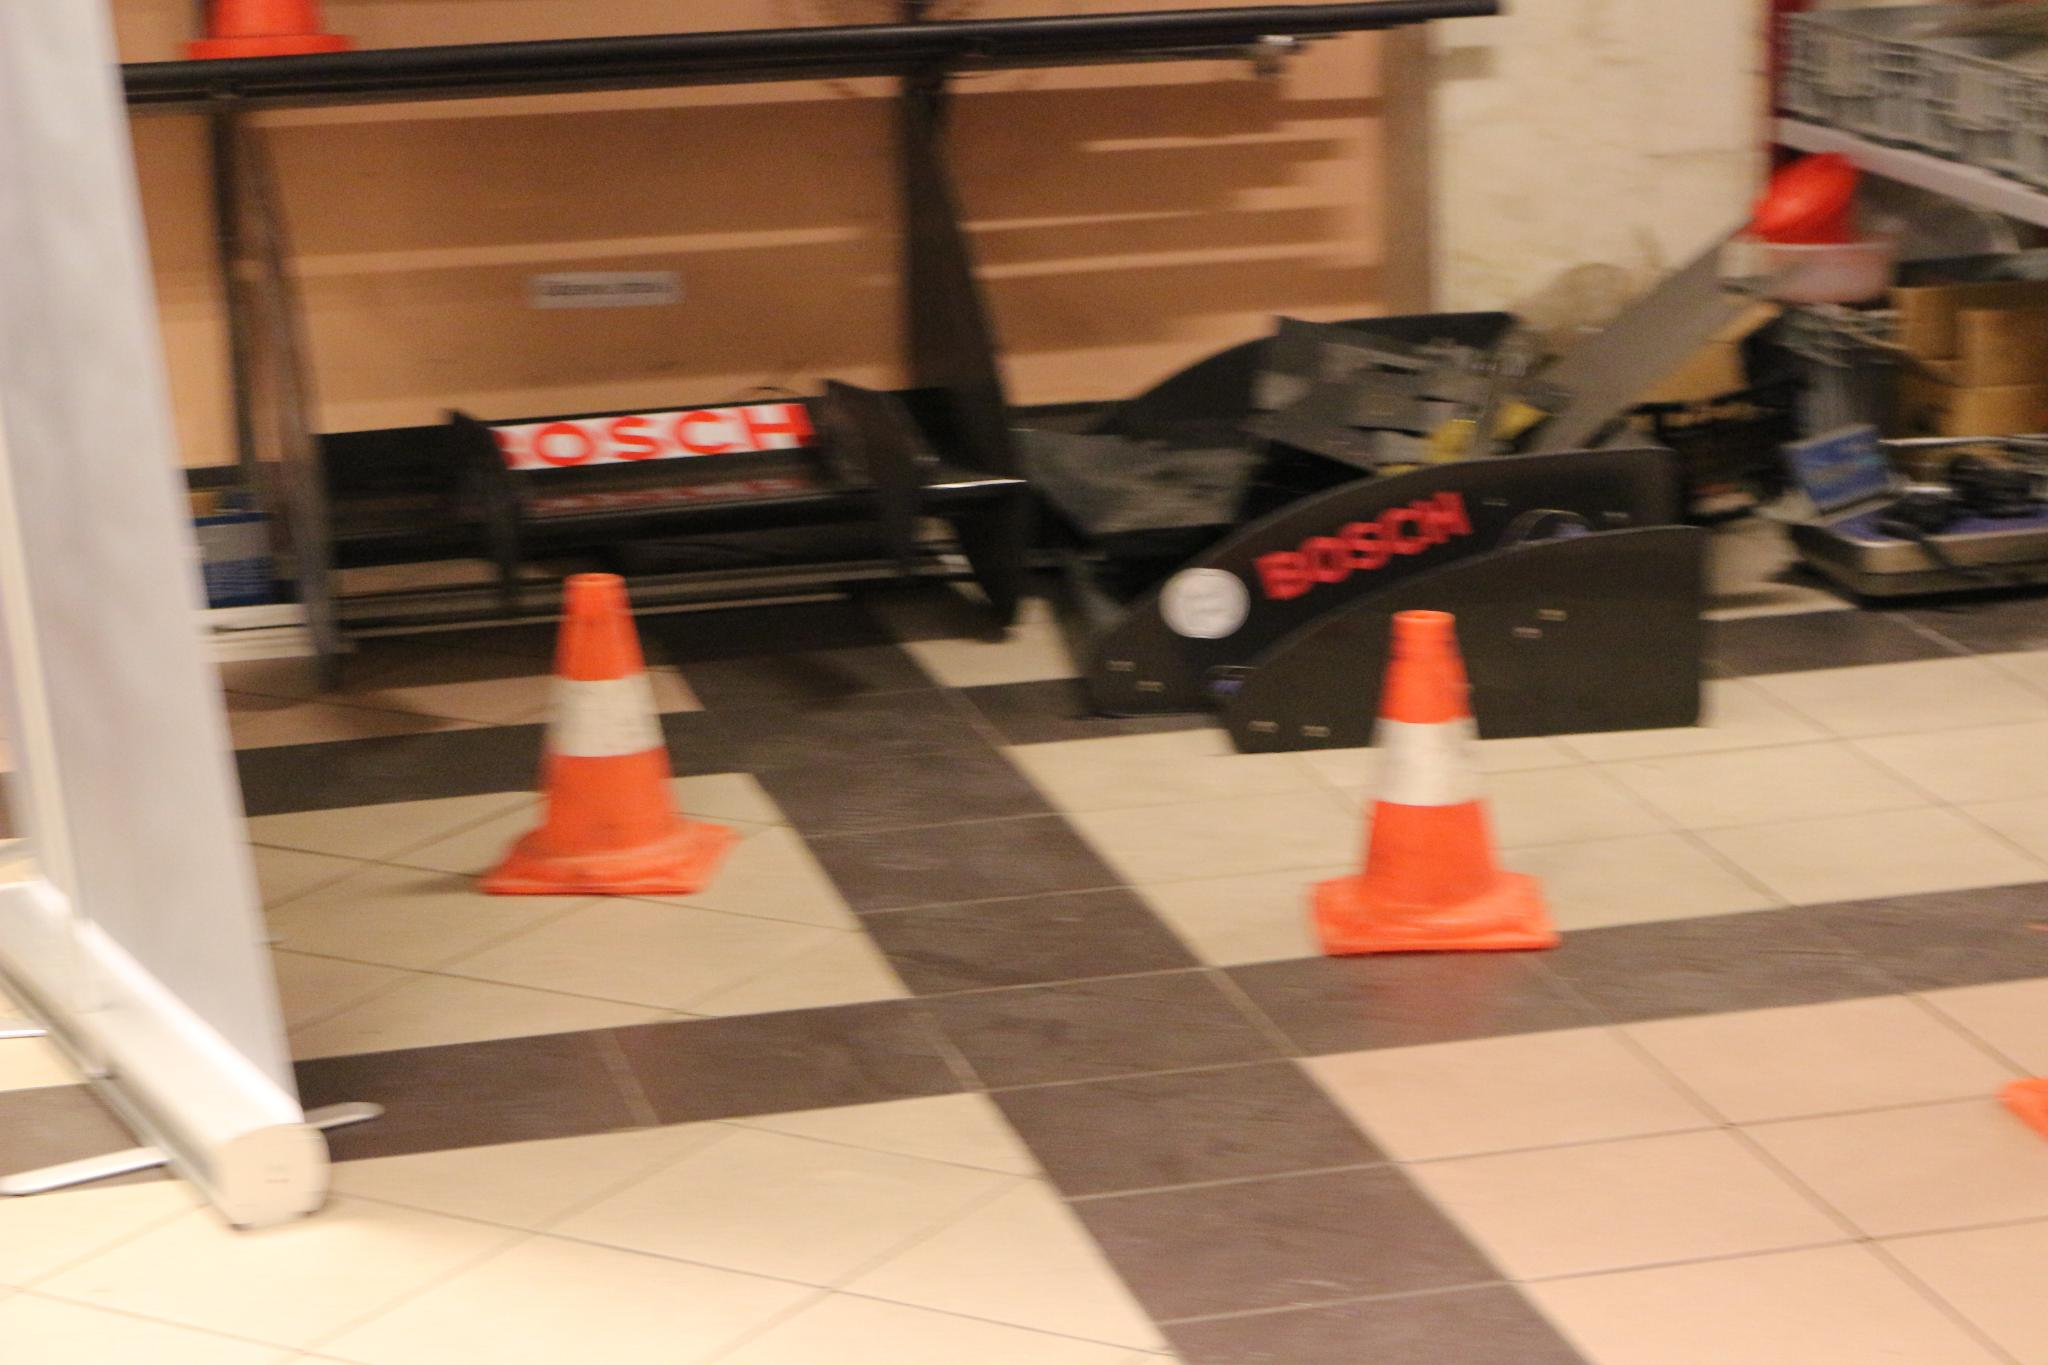Orange_Cone: (1316, 602, 1553, 941), (492, 576, 728, 896)
